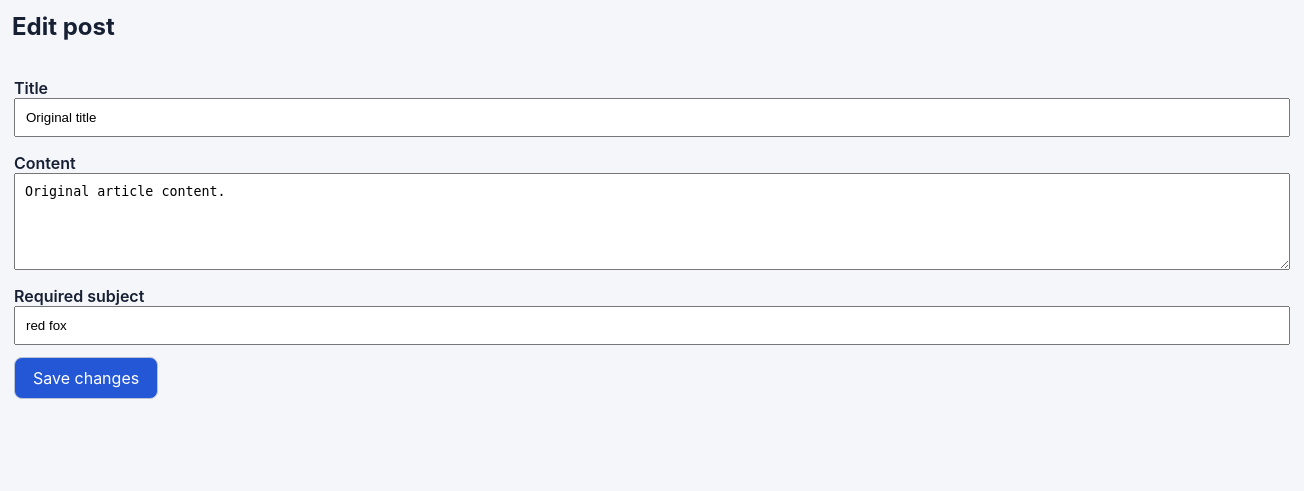
Test: failed save preserves edits and allows another attempt
Replace the text in the field labelled "Title" with "Unsaved title" at (652, 117), box [14,98,1290,137]
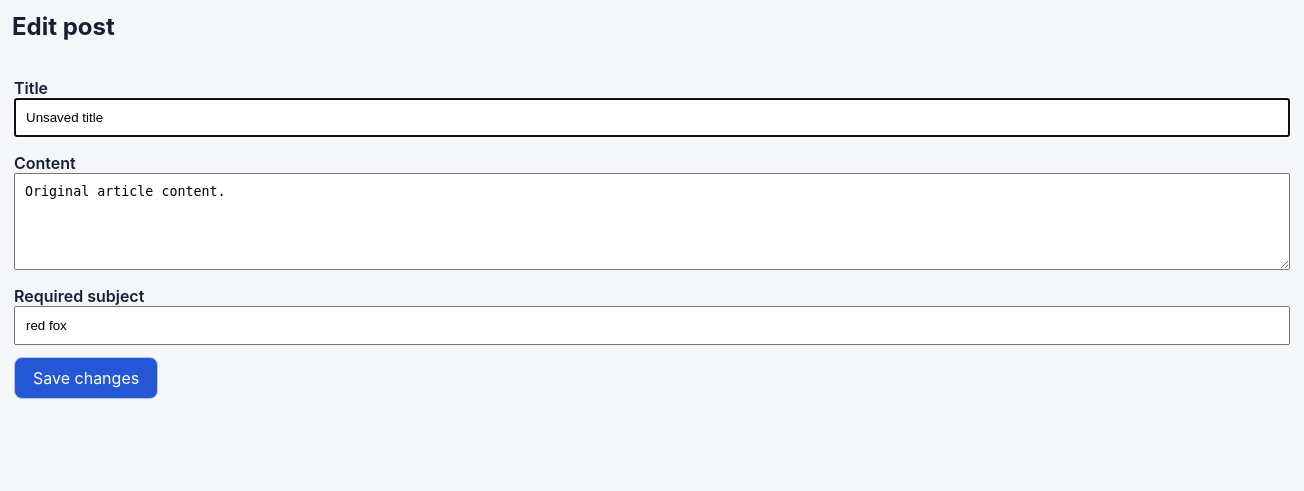
Click the button "Save changes" at (86, 378), box [14,357,158,399]
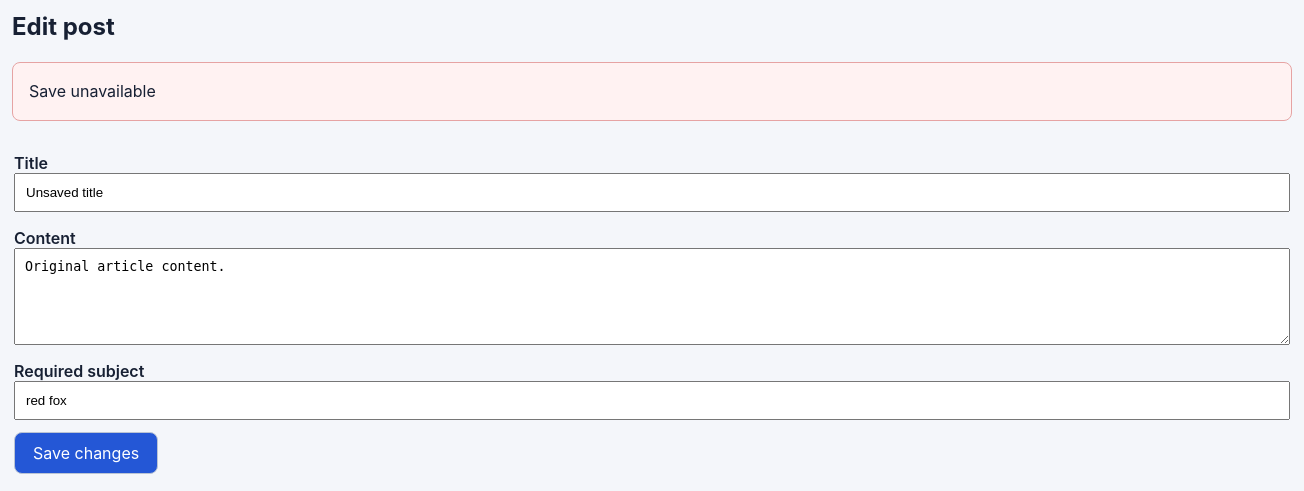
Check: the button "Save changes" is enabled, box [14,432,158,474]
Check: the message reads "Save unavailable", box [29,81,156,101]
